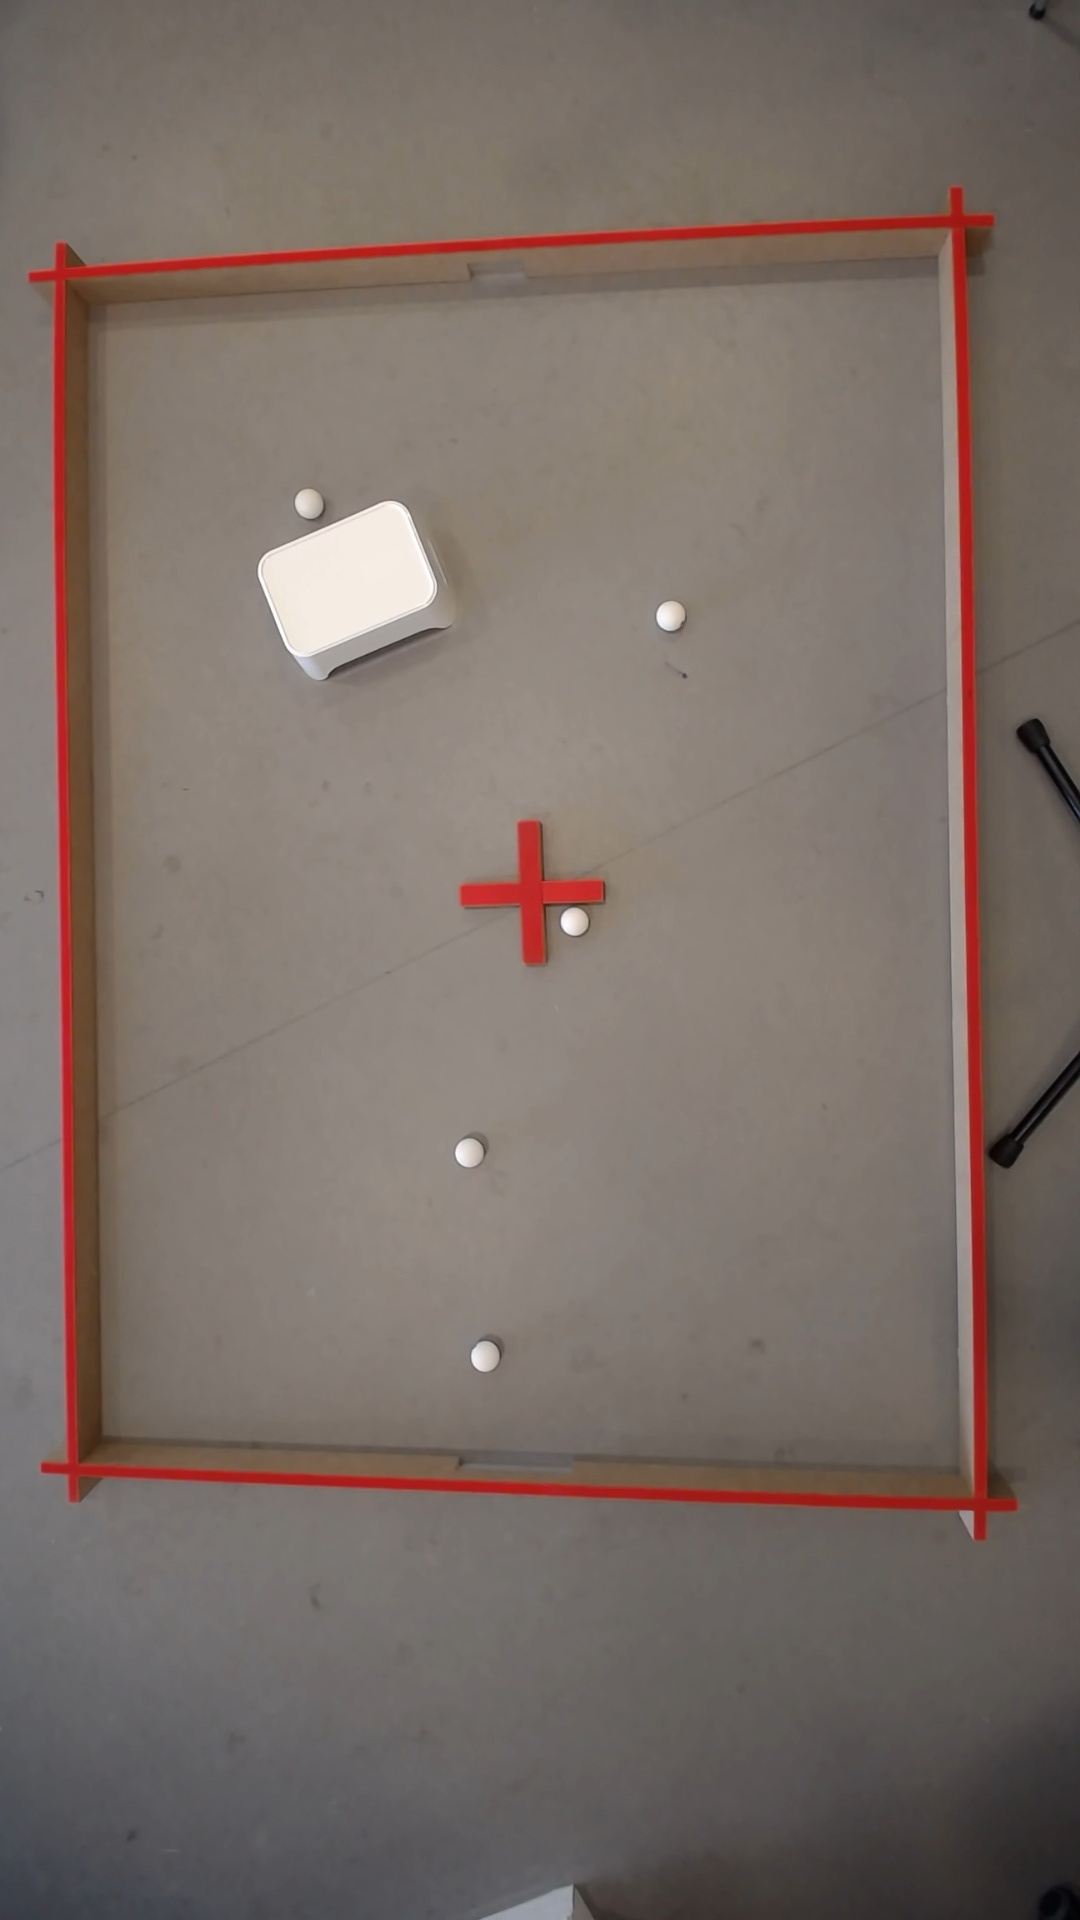balls: (247, 492, 448, 670), (650, 596, 684, 633), (555, 902, 588, 938), (465, 1338, 498, 1373), (454, 1139, 475, 1166)
car: (289, 487, 318, 517)
